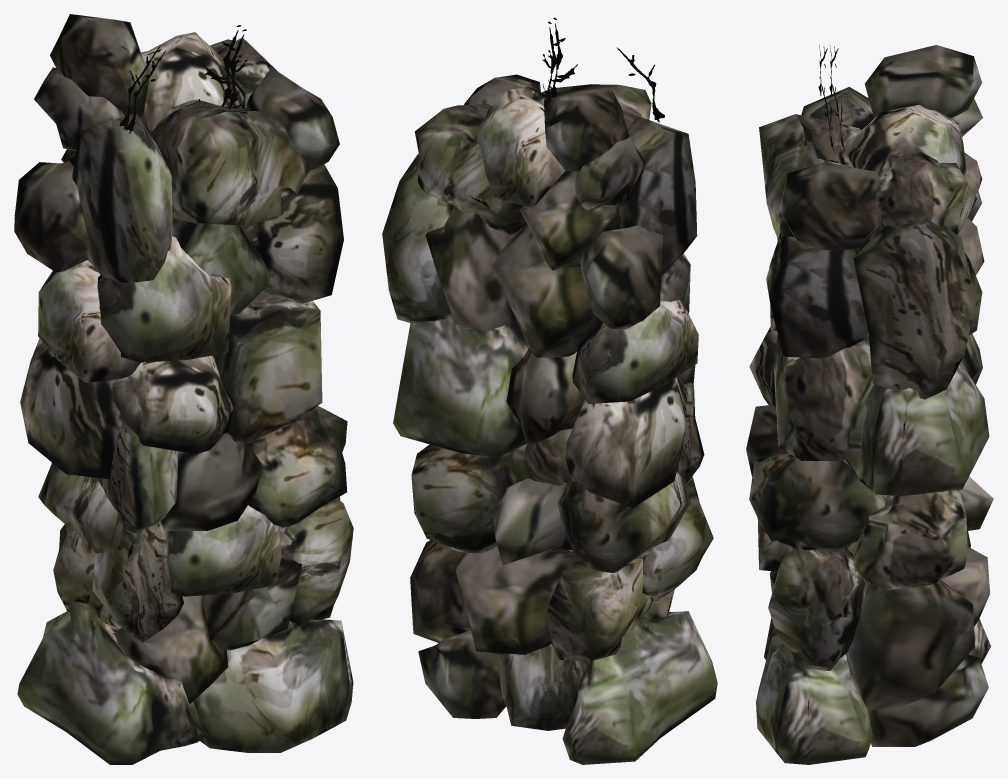
Rendered from STR_WallStoneC.FBX.
3 views of the same model, side by side, from view 1: azimuth 30°, elevation 25°; view 2: azimuth 150°, elevation 25°; view 3: azimuth 270°, elevation 25° (orthographic). The views are drawn at different scales.
Parts seen in each view (by area): view 1: STR_WallStoneC; view 2: STR_WallStoneC; view 3: STR_WallStoneC.
Boxes of the visible parts, bbox=[...] form: STR_WallStoneC: bbox=[14, 14, 353, 764]; STR_WallStoneC: bbox=[382, 17, 717, 764]; STR_WallStoneC: bbox=[746, 44, 993, 764].
Size of the model in its own units: 215 by 542 by 182.
2 materials, 2 textured.
